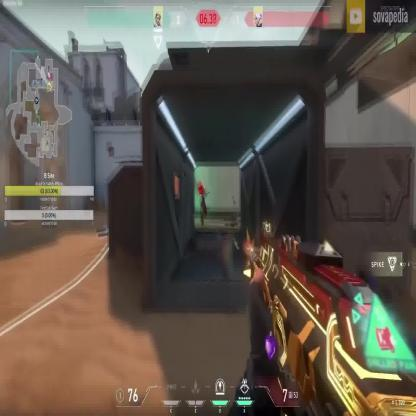enemy: (198, 182, 209, 226)
enemy_head: (202, 185, 206, 193)
